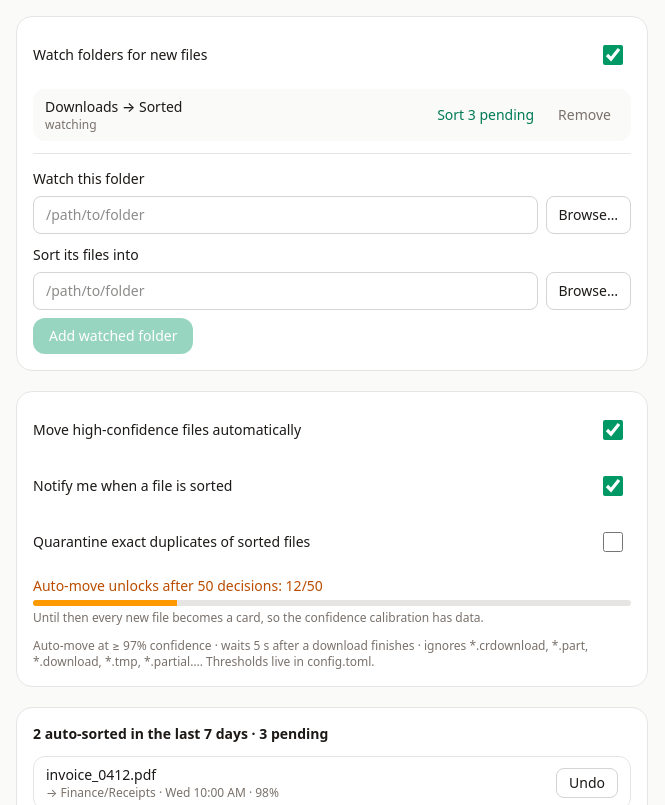
Test: Watch activity digest › shows a refused undo
(page scrolled)
Click the button "Undo". click: (587, 783)
box: [556,768,618,798]
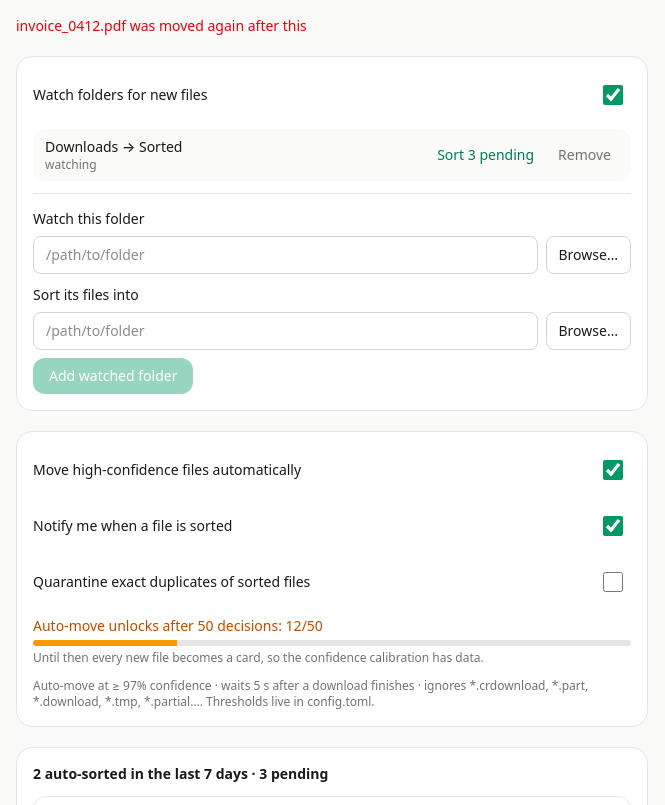
Now the message shows "moved again", box [16,16,307,35]
